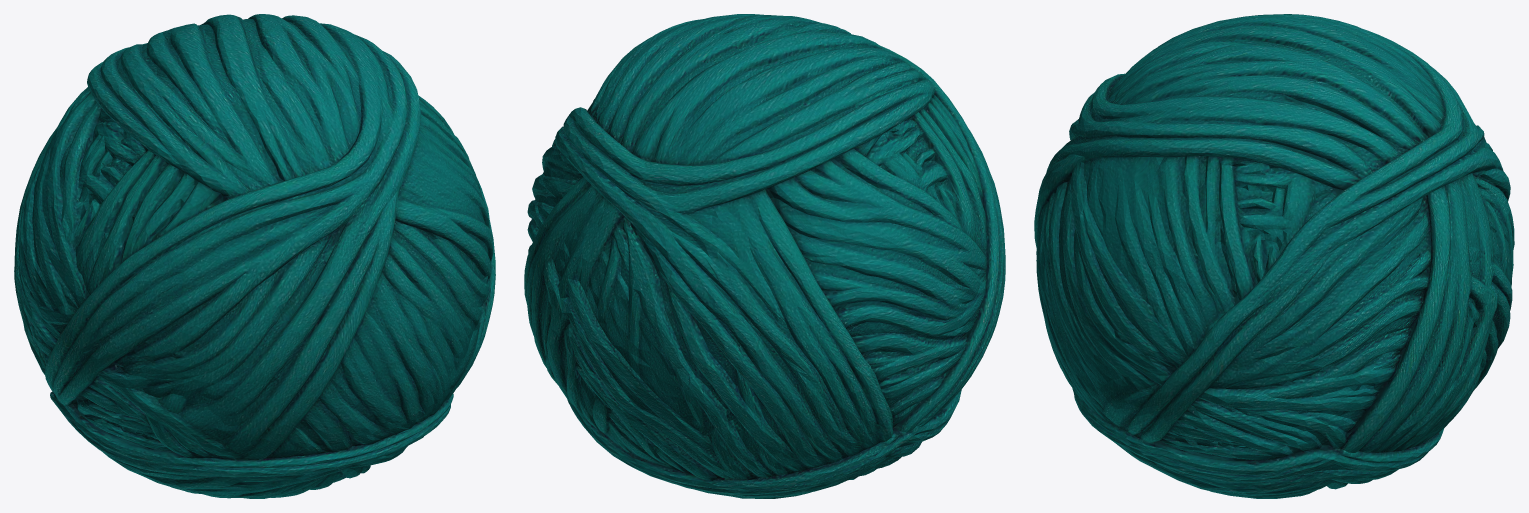
Rendered from toy_10.glb.
The picture shows the model from 3 angles, left to right: view 1: azimuth 30°, elevation 25°; view 2: azimuth 150°, elevation 25°; view 3: azimuth 270°, elevation 25°; orthographic projection.
Parts seen in each view (by area): view 1: tripo_node_1e988506-9906-4d96-bd88-c9245ea5dac6; view 2: tripo_node_1e988506-9906-4d96-bd88-c9245ea5dac6; view 3: tripo_node_1e988506-9906-4d96-bd88-c9245ea5dac6.
Part boxes in pixels (x1,y1,x2,y2): tripo_node_1e988506-9906-4d96-bd88-c9245ea5dac6: (14, 14, 495, 498); tripo_node_1e988506-9906-4d96-bd88-c9245ea5dac6: (524, 14, 1005, 498); tripo_node_1e988506-9906-4d96-bd88-c9245ea5dac6: (1034, 14, 1514, 498).
Size of the model in its own units: 0.9996 by 1 by 0.9961.
1 material, 1 textured.
